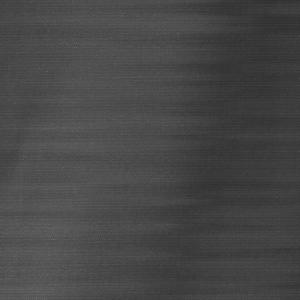Wrinkle: (149, 1, 300, 300), (1, 60, 68, 197)
